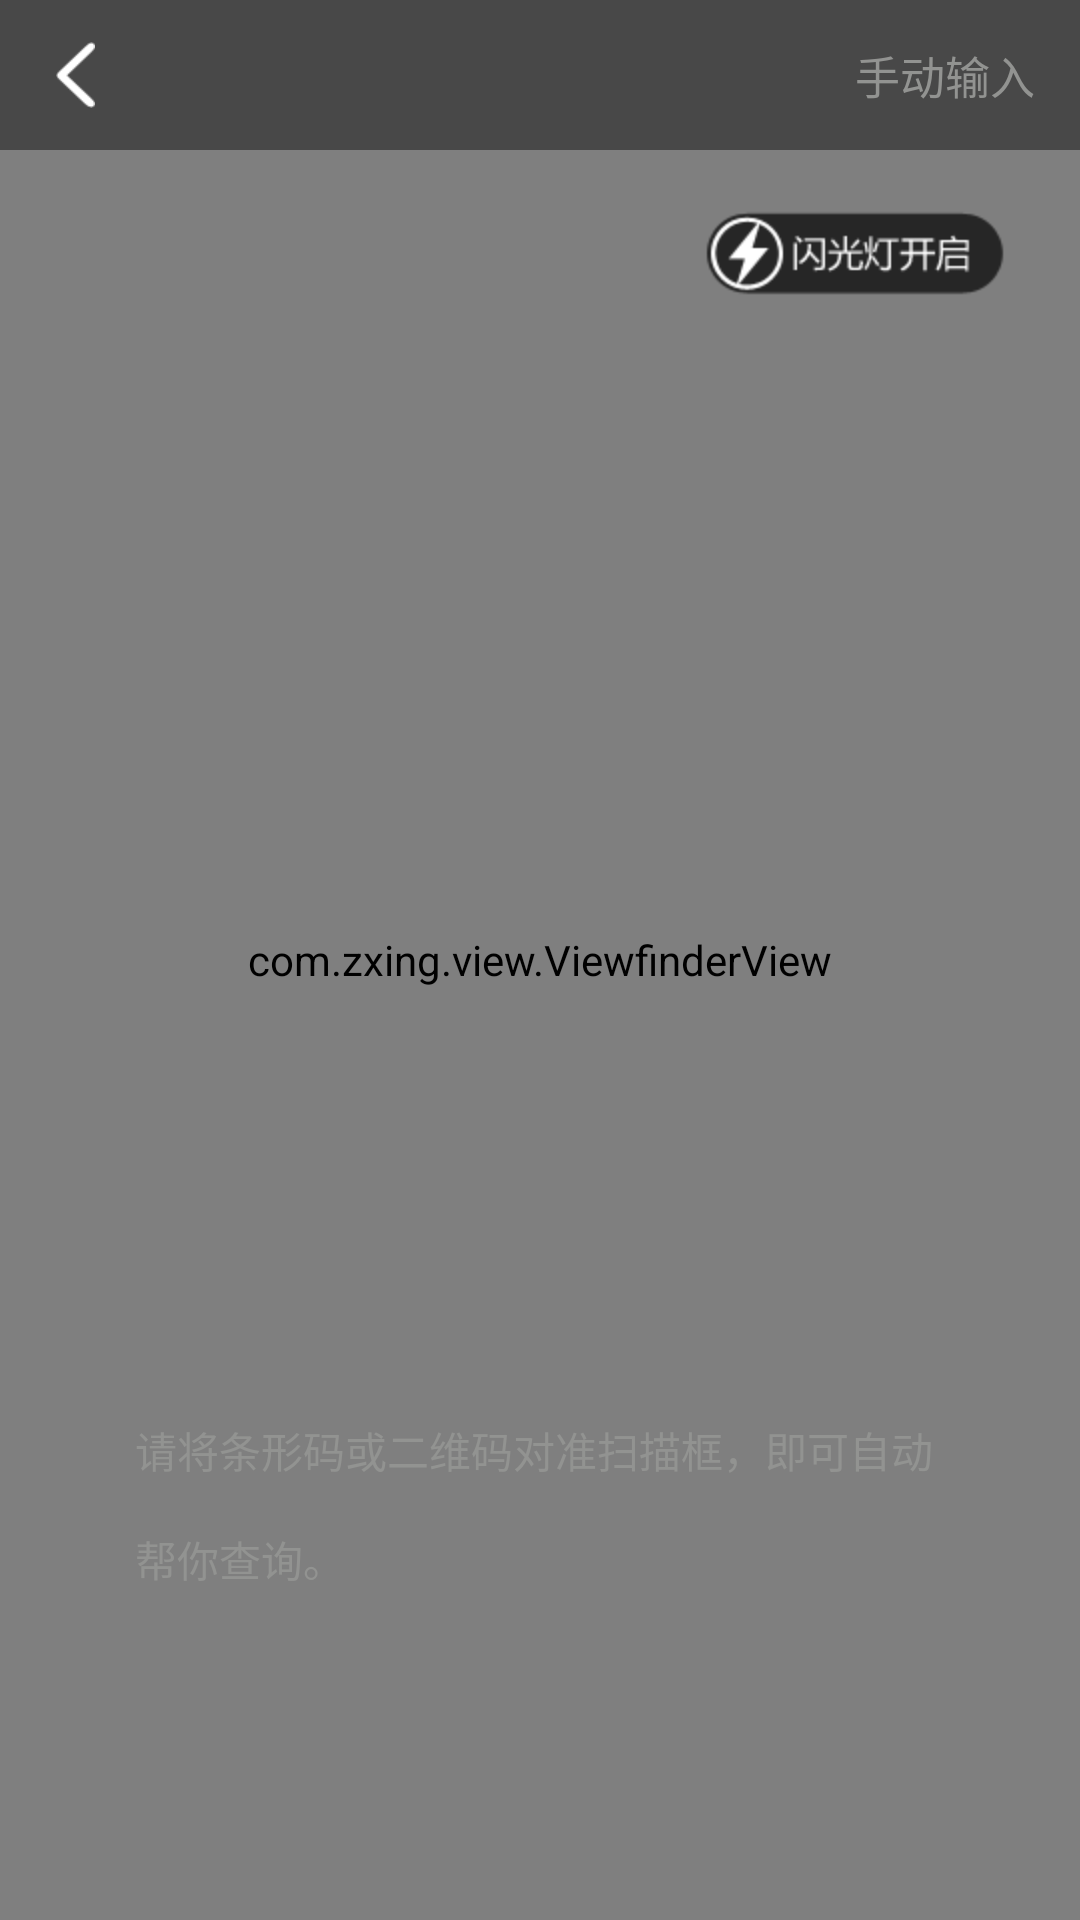

Locate icon controls on the screen. Image size 1080×1920, boxes as region(x1, y1, x2, y2).
arrow left: region(56, 42, 95, 108)
